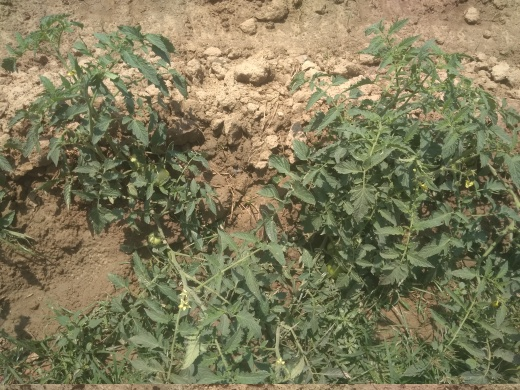tomato flower: (173, 292, 198, 319)
tomato plant: (106, 212, 514, 390), (313, 85, 482, 270), (47, 40, 185, 212)
